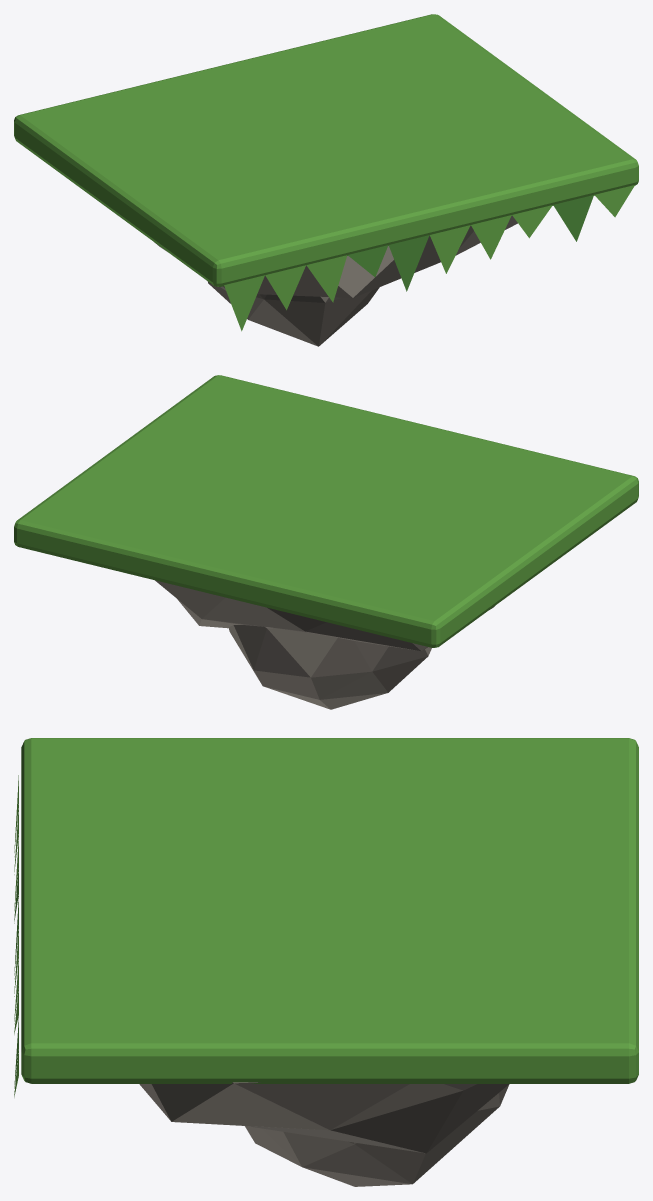
File: ledge_3.glb
3 renders of one model, top to bottom at view 1: azimuth 30°, elevation 25°; view 2: azimuth 150°, elevation 25°; view 3: azimuth 270°, elevation 25°, orthographic. The views are drawn at different scales.
Parts seen in each view (by area): view 1: ledge_mesh; view 2: ledge_mesh; view 3: ledge_mesh.
Boxes of the visible parts, x1,y1,x2,y2 form: ledge_mesh: (14,14,638,346); ledge_mesh: (14,375,638,709); ledge_mesh: (14,738,638,1186).
Bounding box in the file's own units: 3 × 1.36 × 2.53.
